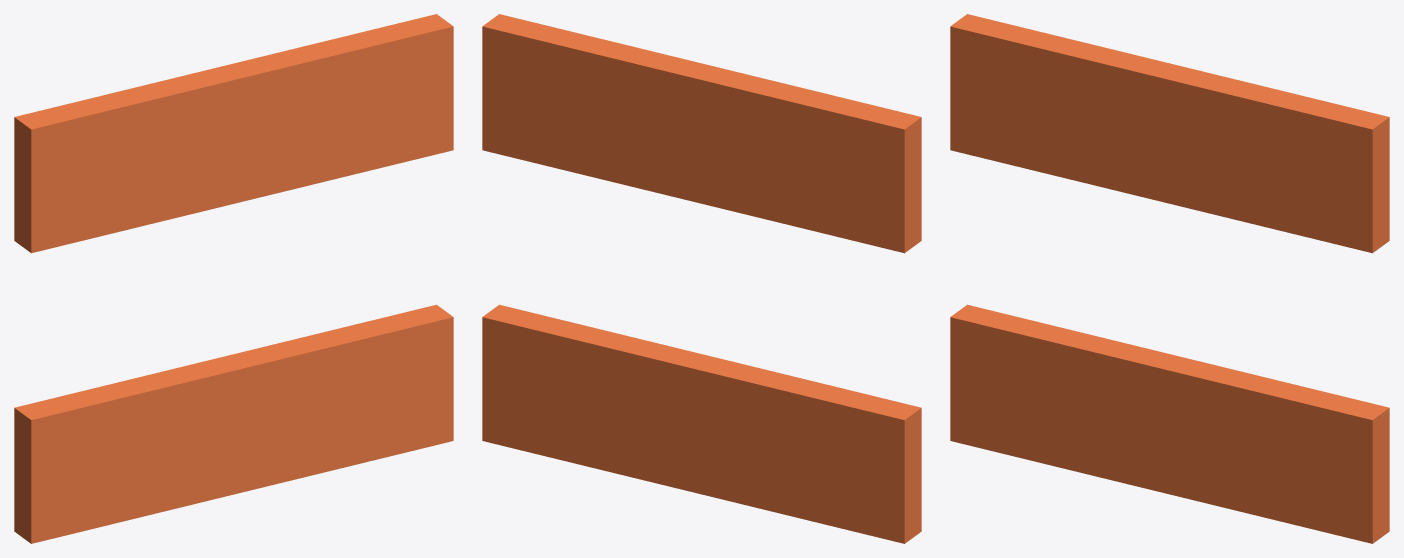
The model's file is fence2.fbx.
The picture shows the model from 3 angles, left to right: view 1: azimuth 30°, elevation 25°; view 2: azimuth 150°, elevation 25°; view 3: azimuth 330°, elevation 25°; orthographic projection.
Visible parts, largest first — view 1: fence2; view 2: fence2; view 3: fence2.
Boxes of the visible parts, x1,y1,x2,y2 form: fence2: [14, 14, 453, 543]; fence2: [482, 14, 921, 543]; fence2: [950, 14, 1389, 543].
Size of the model in its own units: 78.89 by 73.97 by 5.52.
